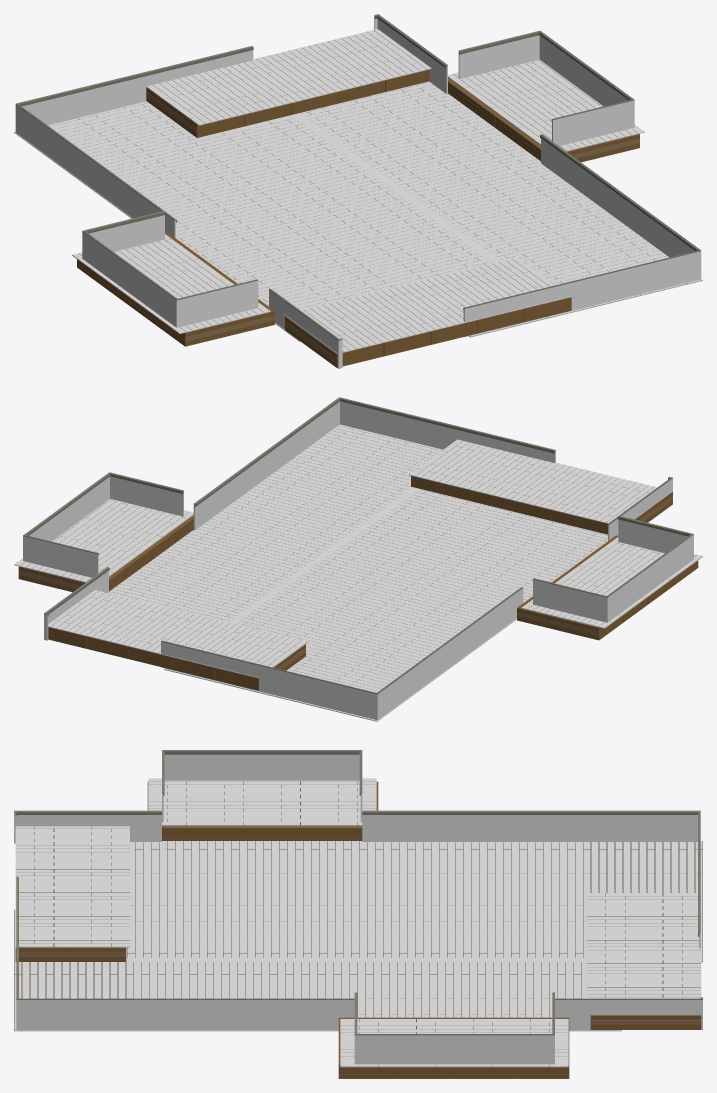
Rendered from room3.fbx.
3 views of the same model, one above another, from view 1: azimuth 30°, elevation 25°; view 2: azimuth 150°, elevation 25°; view 3: azimuth 270°, elevation 25° (orthographic). The views are drawn at different scales.
Visible parts, largest first — view 1: Room.001; view 2: Room.001; view 3: Room.001.
Boxes of the visible parts, <box> form: Room.001: <box>14,14,702,368</box>; Room.001: <box>14,397,702,721</box>; Room.001: <box>14,750,702,1078</box>.
Size of the model in its own units: 6719 by 543 by 6788.
